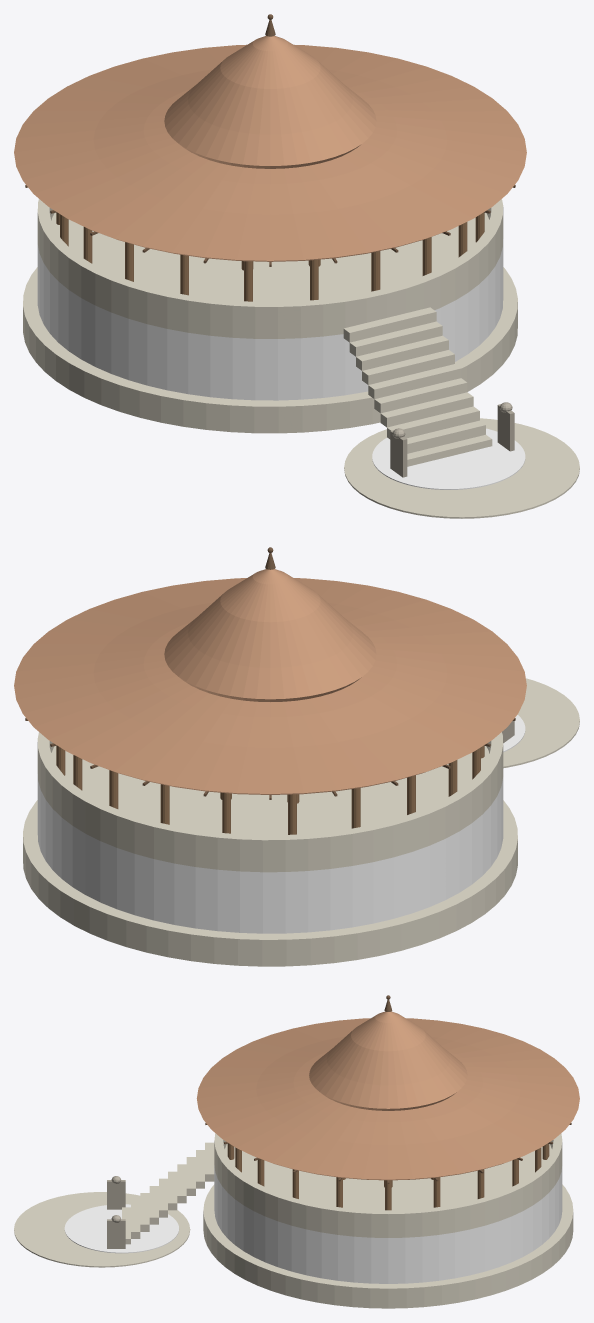
File: polonnaruwa_watadage.glb
3 renders of one model, top to bottom at view 1: azimuth 30°, elevation 25°; view 2: azimuth 150°, elevation 25°; view 3: azimuth 270°, elevation 25°, orthographic. The views are drawn at different scales.
Visible parts, largest first — view 1: Lower_Roof, Brick_Drum, Upper_Roof, Platform_Floor, Base_Plinth, Parapet_Wall, Entrance_Paving, Moonstone, Step_6, Step_0, Step_4, Step_5 (+8 smaller); view 2: Lower_Roof, Brick_Drum, Upper_Roof, Base_Plinth, Platform_Floor, Parapet_Wall, Entrance_Paving; view 3: Lower_Roof, Brick_Drum, Upper_Roof, Base_Plinth, Platform_Floor, Parapet_Wall, Entrance_Paving, Moonstone, GuardStone_1, GuardStone_-1.
Part boxes in pixels (<box>): Lower_Roof: <box>14,44,526,261</box>; Brick_Drum: <box>37,239,503,400</box>; Upper_Roof: <box>164,36,376,168</box>; Platform_Floor: <box>37,212,503,338</box>; Base_Plinth: <box>23,267,517,433</box>; Parapet_Wall: <box>37,199,503,330</box>; Entrance_Paving: <box>344,418,579,518</box>; Moonstone: <box>372,428,525,489</box>; Step_6: <box>380,392,473,427</box>; Step_0: <box>343,307,436,342</box>; Step_4: <box>368,364,461,399</box>; Step_5: <box>374,378,467,413</box>; Lower_Roof: <box>14,578,526,794</box>; Brick_Drum: <box>37,774,503,933</box>; Upper_Roof: <box>164,569,376,701</box>; Base_Plinth: <box>23,800,517,966</box>; Platform_Floor: <box>37,746,503,872</box>; Parapet_Wall: <box>37,732,503,864</box>; Entrance_Paving: <box>503,678,579,768</box>; Lower_Roof: <box>196,1018,579,1180</box>; Brick_Drum: <box>214,1165,562,1283</box>; Upper_Roof: <box>309,1011,467,1110</box>; Base_Plinth: <box>203,1184,573,1308</box>; Platform_Floor: <box>214,1144,562,1237</box>; Parapet_Wall: <box>214,1133,562,1231</box>; Entrance_Paving: <box>14,1192,190,1267</box>; Moonstone: <box>64,1204,179,1253</box>; GuardStone_1: <box>107,1219,125,1248</box>; GuardStone_-1: <box>107,1180,125,1209</box>.
Size of the model in its own units: 17.4 by 11.77 by 25.7.
